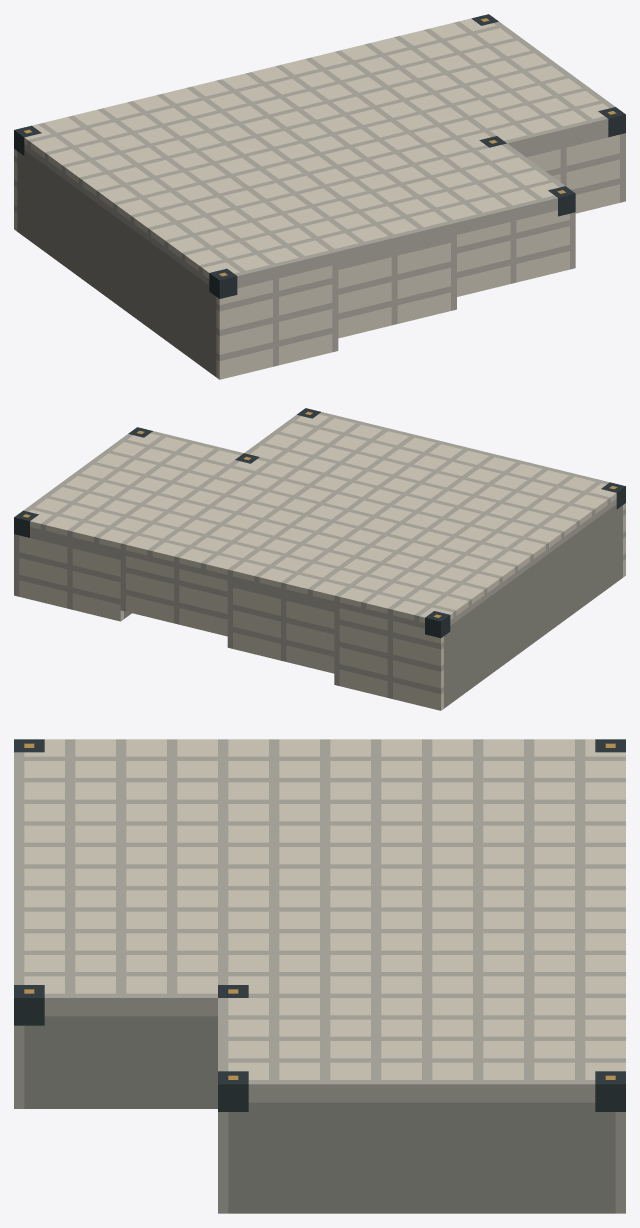
The picture shows the model from 3 angles, top to bottom: view 1: azimuth 30°, elevation 25°; view 2: azimuth 150°, elevation 25°; view 3: azimuth 270°, elevation 25°; orthographic projection. The views are drawn at different scales.
Parts seen in each view (by area): view 1: 顺等高线不规则局部建筑基台; view 2: 顺等高线不规则局部建筑基台; view 3: 顺等高线不规则局部建筑基台.
Part boxes in pixels (x1,y1,x2,y2): 顺等高线不规则局部建筑基台: [14, 14, 625, 379]; 顺等高线不规则局部建筑基台: [14, 408, 625, 710]; 顺等高线不规则局部建筑基台: [14, 739, 625, 1213].
Size of the model in its own units: 8 by 1.6 by 6.
5 materials, 5 textured.
